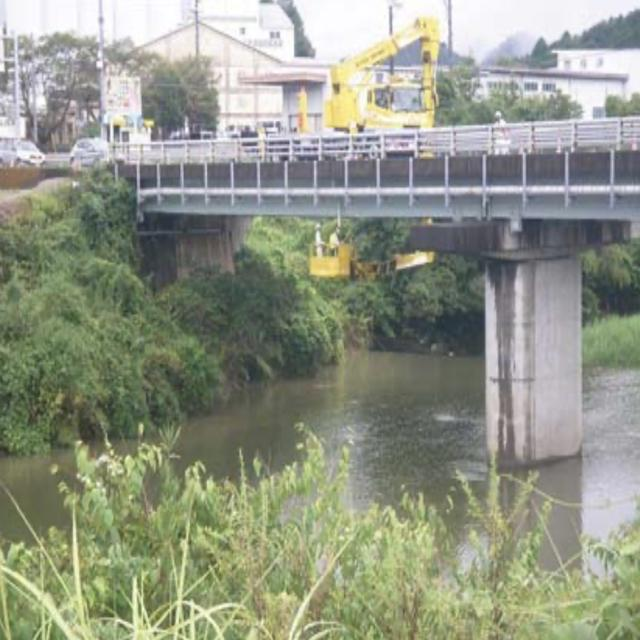leakage: (483, 248, 530, 472)
